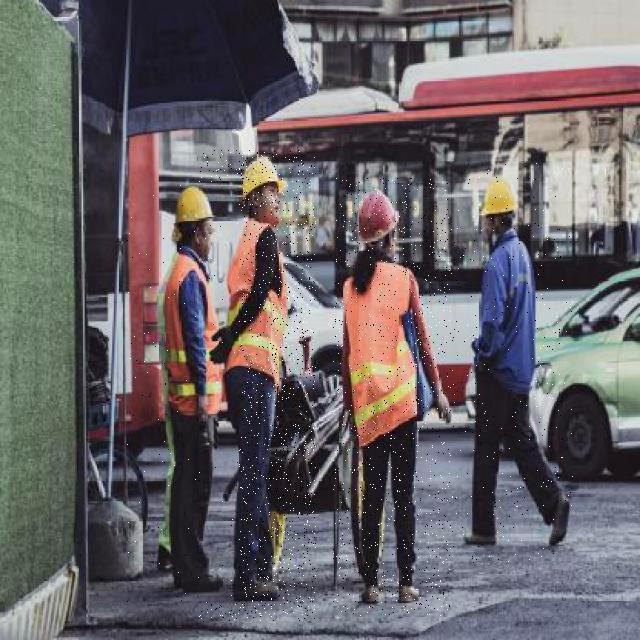10: (199, 150, 316, 622), (333, 178, 451, 616), (450, 161, 573, 563), (127, 182, 239, 602)
11: (342, 263, 419, 448), (154, 252, 223, 415), (224, 219, 287, 394)
2: (227, 145, 298, 241), (162, 169, 222, 274), (348, 180, 407, 281), (476, 160, 532, 255)
helmet_white: (543, 493, 575, 549), (232, 577, 280, 603), (176, 573, 223, 594), (459, 530, 501, 548), (397, 585, 421, 605), (359, 585, 381, 606)
